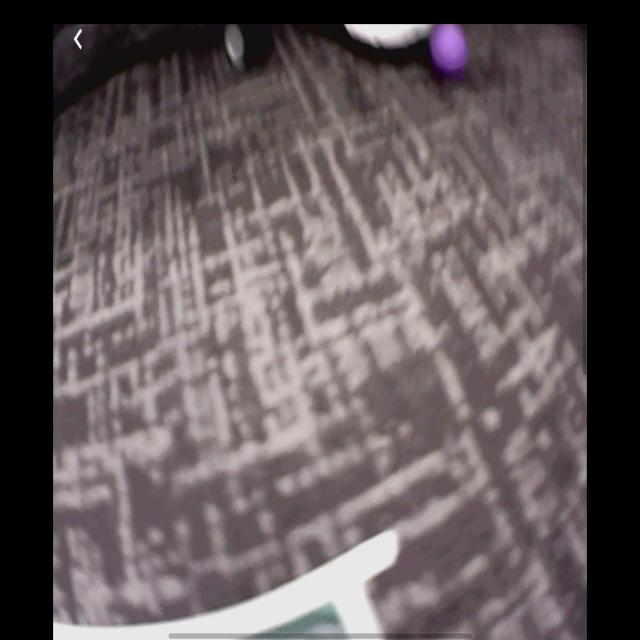ball: (434, 27, 470, 80)
